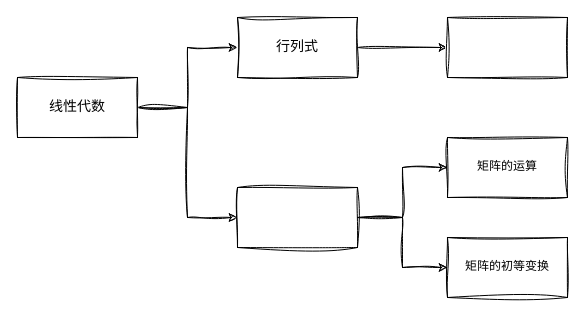
Some shapes in this 585 by 315 pixel diagram are drawn without their labels. Each missing label, with the box of its shape:
矩阵: (236, 186, 358, 248)
行列式的性质与计算: (446, 16, 568, 78)
